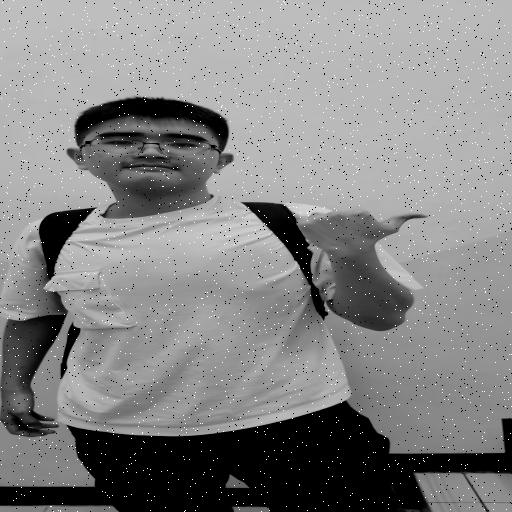back: (268, 195, 445, 263)
